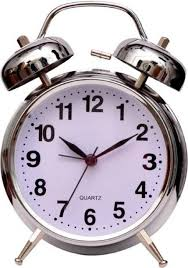alarm_clock: (7, 7, 187, 263)
